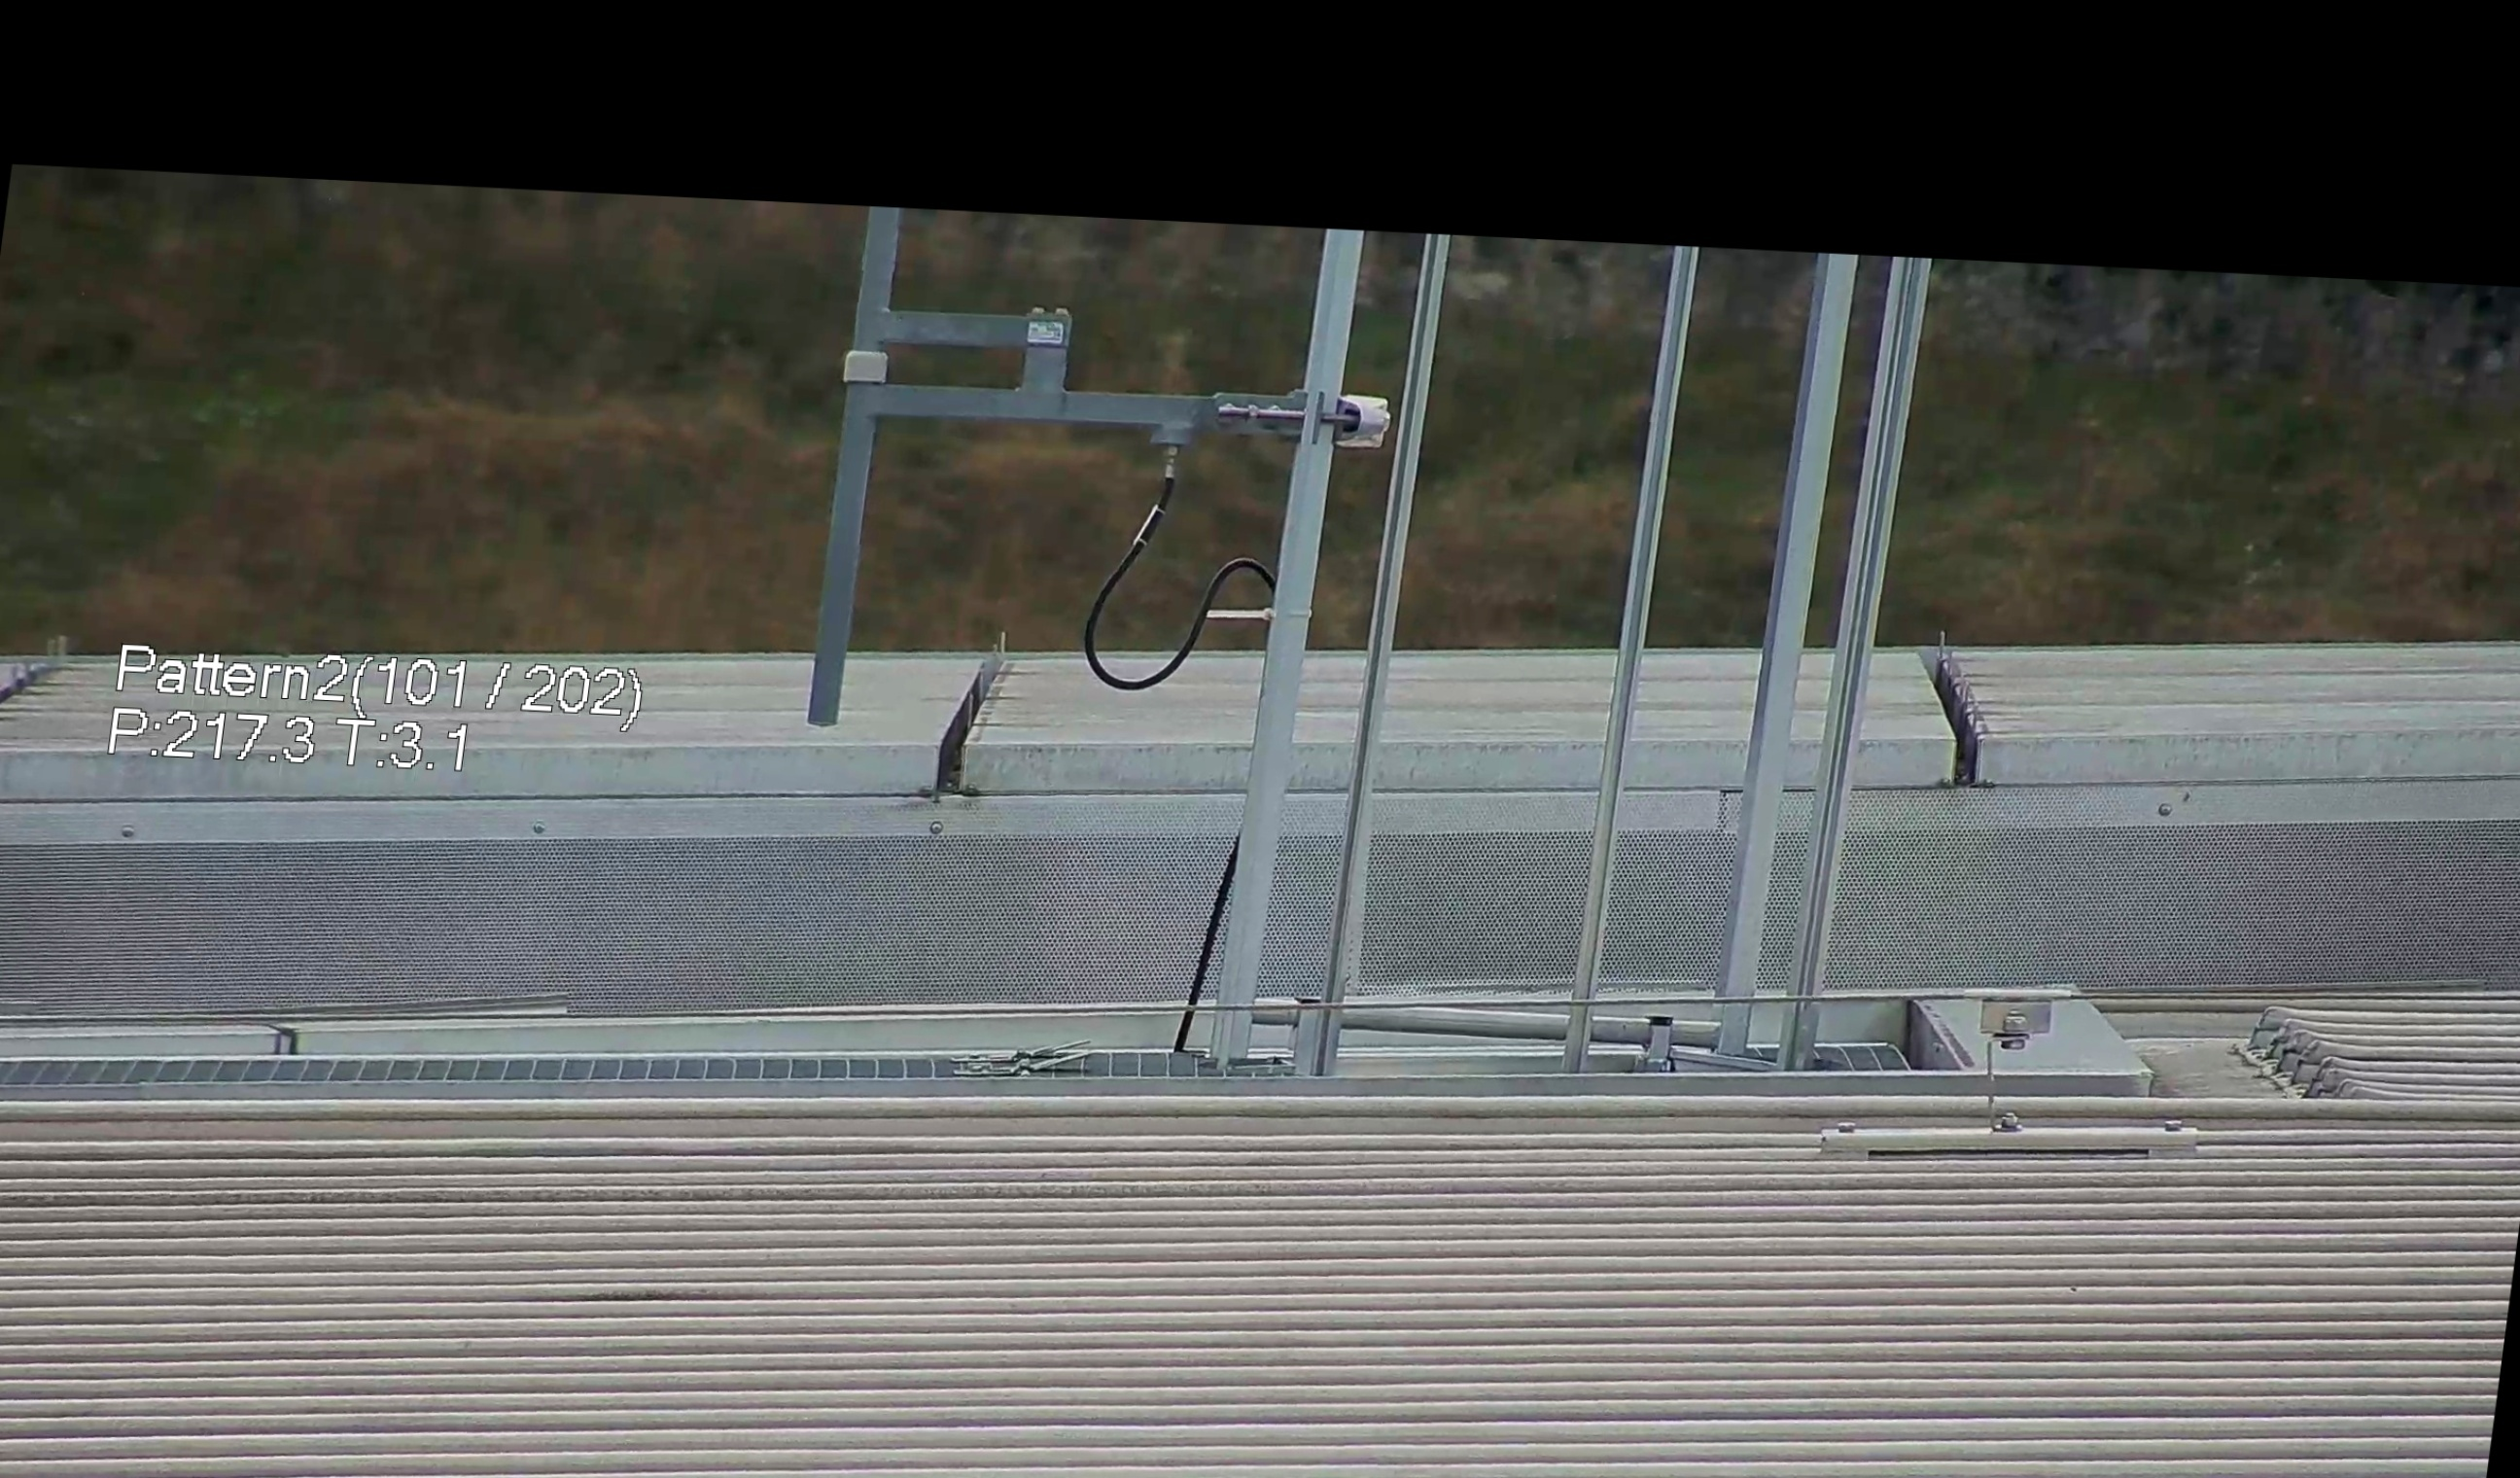Other: (1903, 614, 2028, 788)
